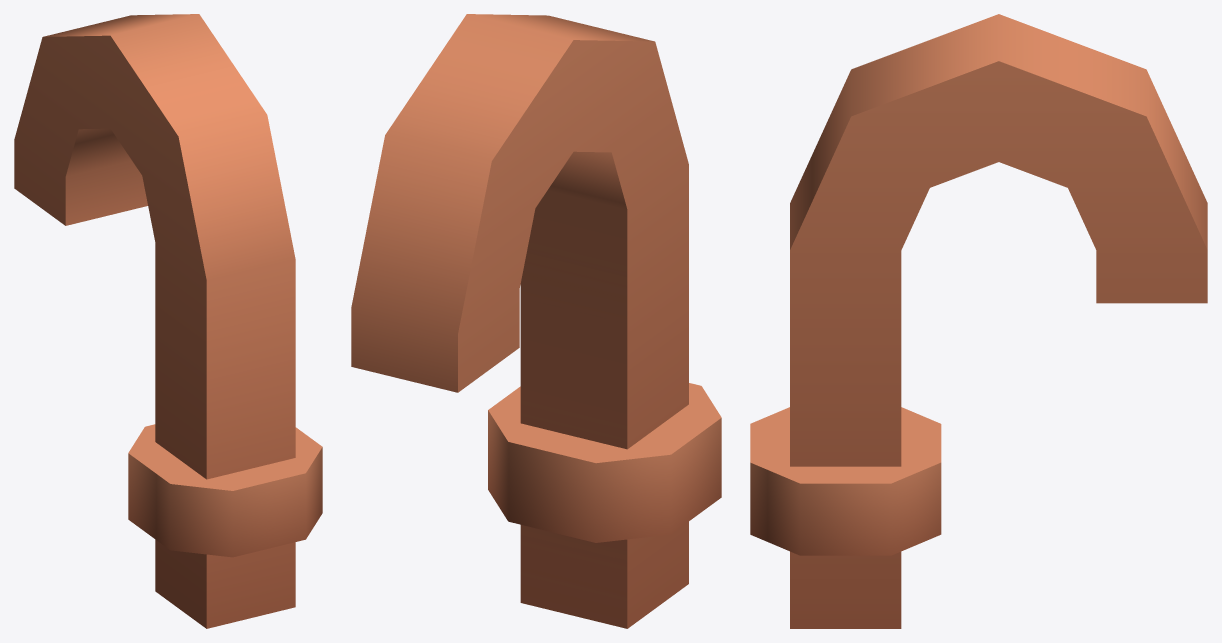
File: aid-cane.obj
3 renders of one model, left to right at view 1: azimuth 30°, elevation 25°; view 2: azimuth 150°, elevation 25°; view 3: azimuth 270°, elevation 25°, orthographic. The views are drawn at different scales.
Visible parts, largest first — view 1: aid-cane; view 2: aid-cane; view 3: aid-cane.
Boxes of the visible parts, bbox=[...] form: aid-cane: bbox=[14, 14, 322, 628]; aid-cane: bbox=[351, 14, 721, 628]; aid-cane: bbox=[750, 14, 1207, 628].
Size of the model in its own units: 0.096 by 0.315 by 0.23.
1 material, 1 textured.
